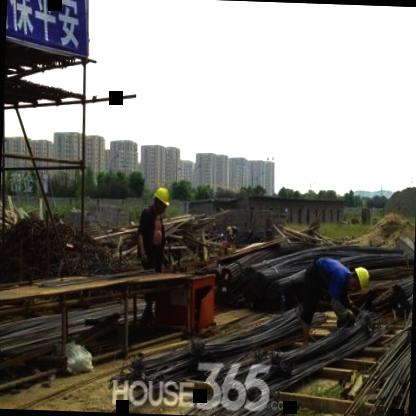helmet: (343, 265, 370, 294), (151, 185, 170, 218)
